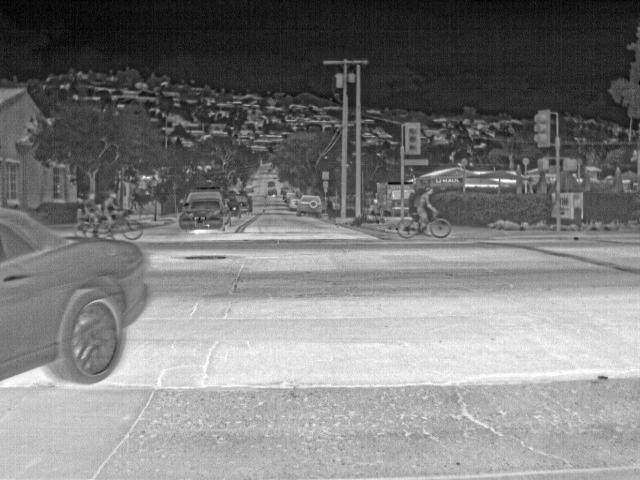car: (0, 204, 155, 386), (178, 188, 235, 232), (374, 179, 401, 216), (298, 194, 322, 215), (237, 190, 253, 211), (228, 197, 242, 217), (285, 192, 297, 201), (268, 187, 278, 197), (281, 187, 291, 197), (289, 201, 299, 210), (265, 180, 275, 188), (244, 185, 254, 193)
person: (416, 185, 435, 236), (83, 188, 100, 237), (100, 191, 115, 238)
